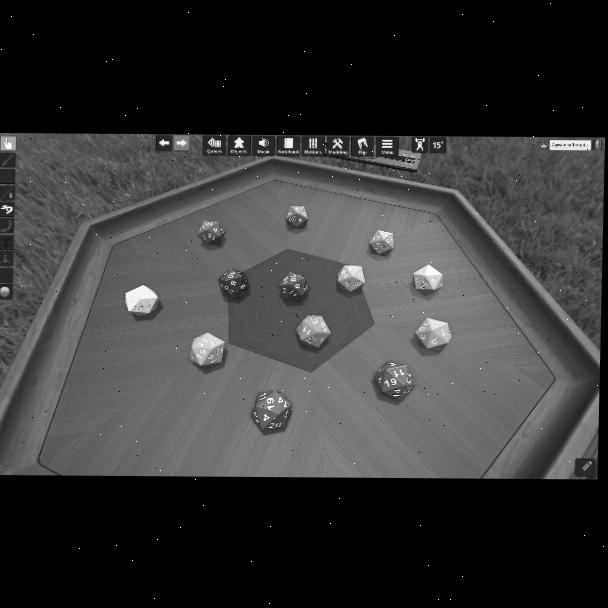d20: (249, 389, 292, 431), (376, 360, 412, 400), (414, 317, 451, 351), (190, 332, 225, 367), (124, 284, 160, 316), (295, 314, 328, 347), (217, 269, 249, 299), (278, 272, 310, 302), (411, 264, 441, 295), (336, 265, 364, 293), (197, 221, 223, 248), (369, 230, 392, 255), (285, 206, 307, 230)
